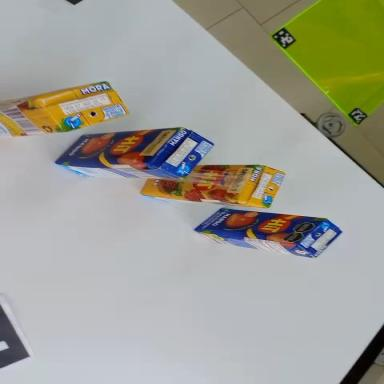HIT-MANGO: (55, 127, 214, 181), (194, 205, 343, 260)
HIT-MORA: (0, 79, 129, 139), (141, 162, 285, 208)
cara_F: (193, 206, 326, 247), (54, 127, 182, 165), (140, 165, 258, 201)
